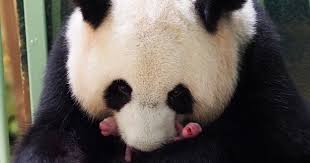panda: (46, 3, 268, 157)
